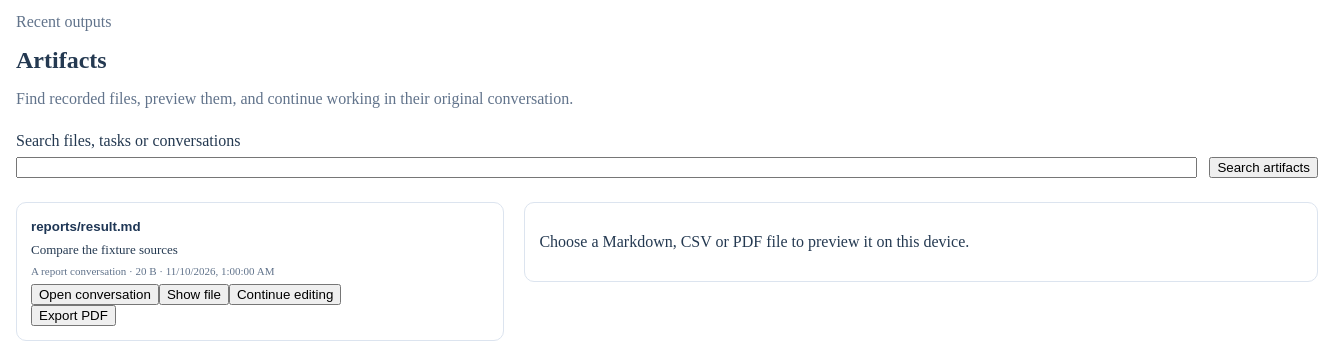
Test case: artifact browsing › finds recent outputs, previews Markdown, returns to the source chat and stages a verified file reference
The image size is (1335, 358).
Later steps or results of the test are not shown.
Expected: the button "reports/result.md" is shown, [31,219,489,234]
Type "report" into the search field.
click(607, 168); type("report")  # box [16,157,1197,178]
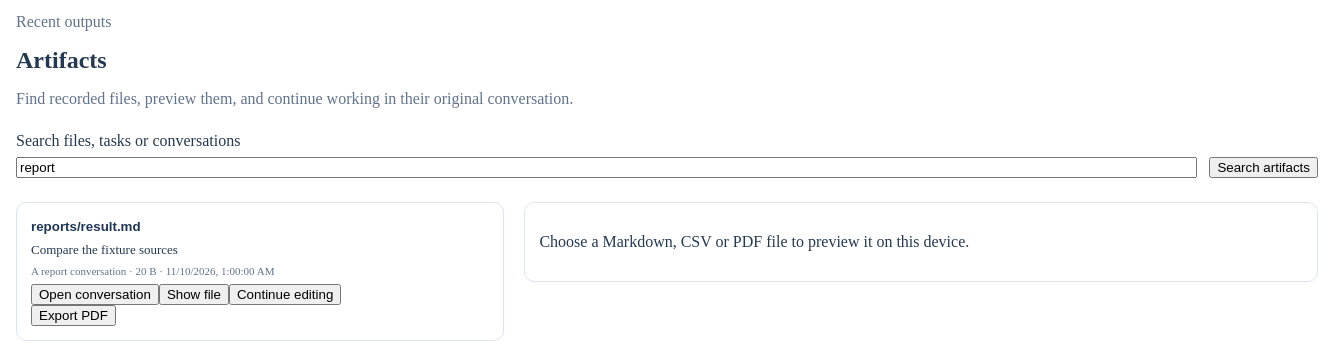
Click the button "Search artifacts".
click(1264, 168)  # box [1209,157,1318,178]
Click the button "reports/result.md".
click(86, 226)  # box [31,219,489,234]
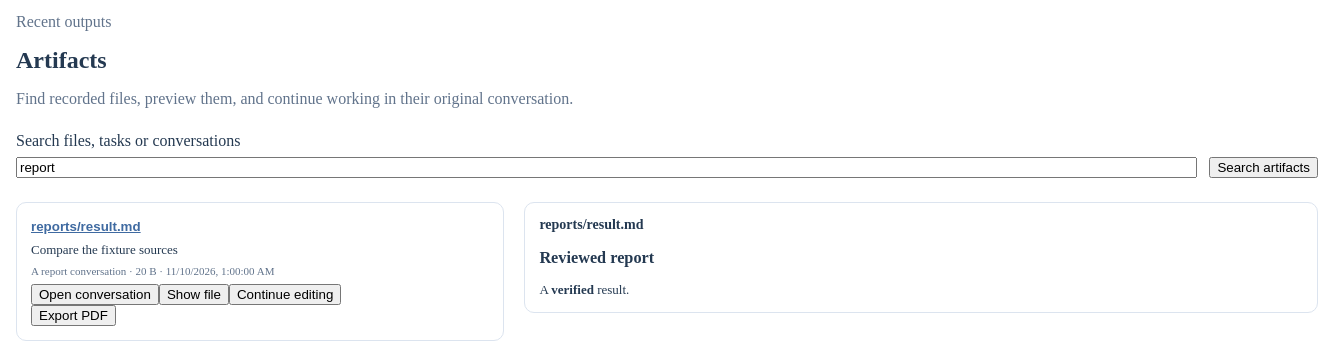
Result: the heading "Reviewed report" is shown at [539,249,654,267]
